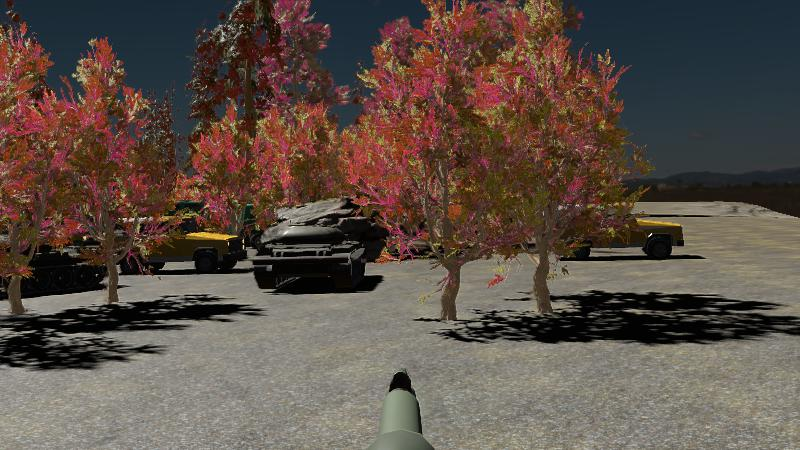Tank: (252, 219, 367, 292), (0, 239, 107, 299)
car: (529, 202, 688, 261), (97, 213, 247, 274)
